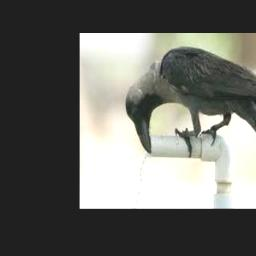Crow: (125, 46, 256, 167)
